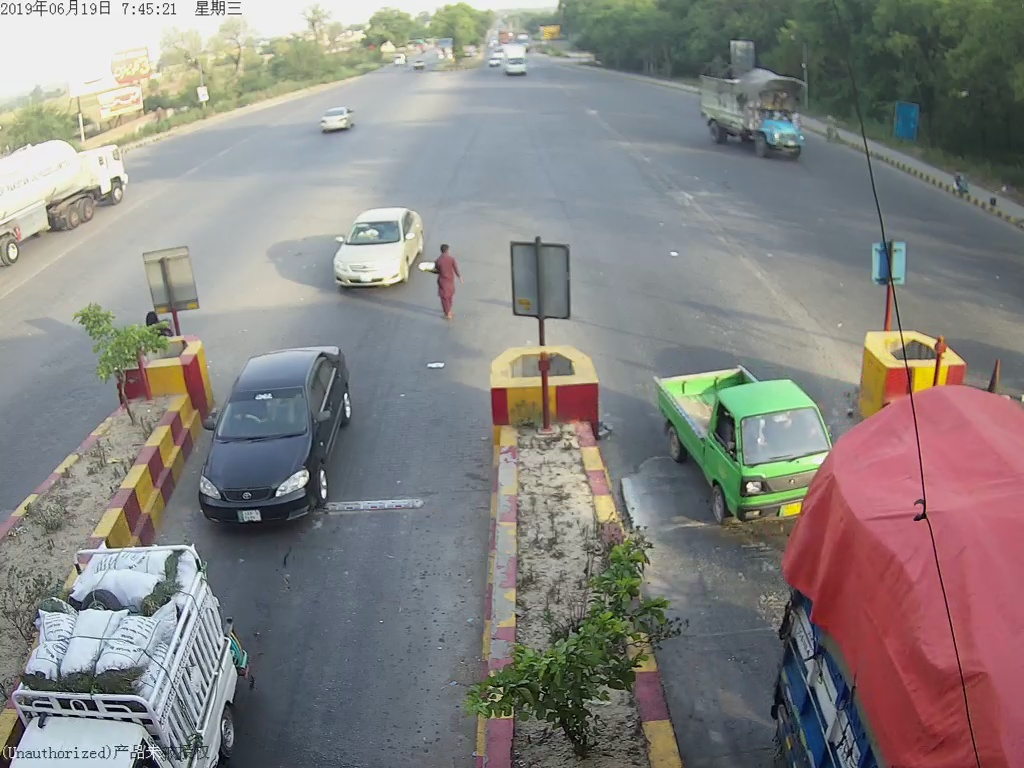Cat-1: (651, 351, 807, 531), (212, 342, 351, 537), (336, 202, 417, 292)
